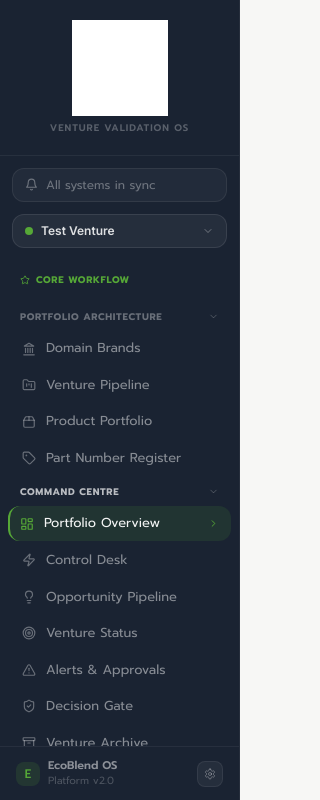
Test: Sidebar — ReactivationPanel X close button (#701) › panel can be reopened after X close (gear button still works)
The image size is (320, 800).
Click the button with test id "gear-button": click(210, 774) [197, 761, 223, 787]
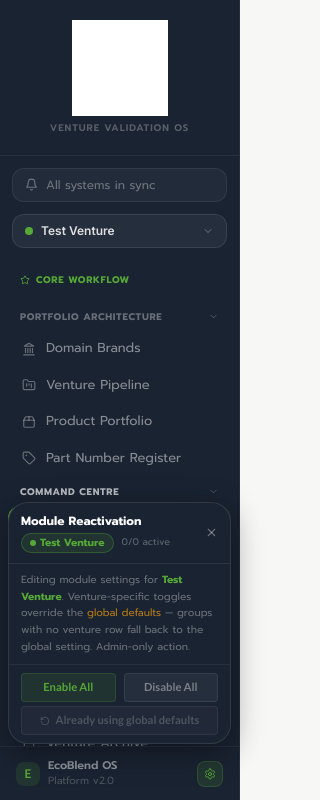
Click the 5th button: click(212, 533) [205, 526, 218, 539]
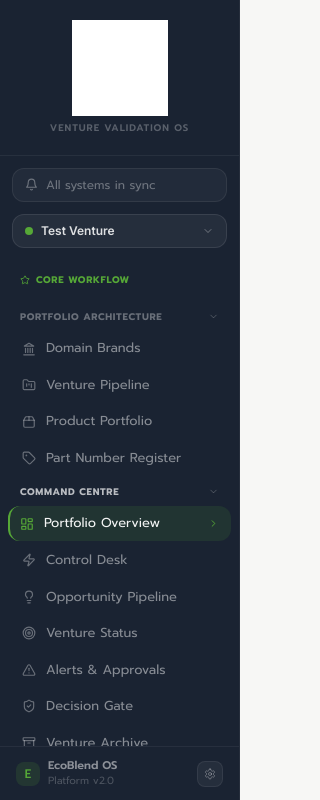
Now the element with test id "reactivation-panel" is gone
// Gear click must reopen.
Click the button with test id "gear-button": click(210, 774) [197, 761, 223, 787]
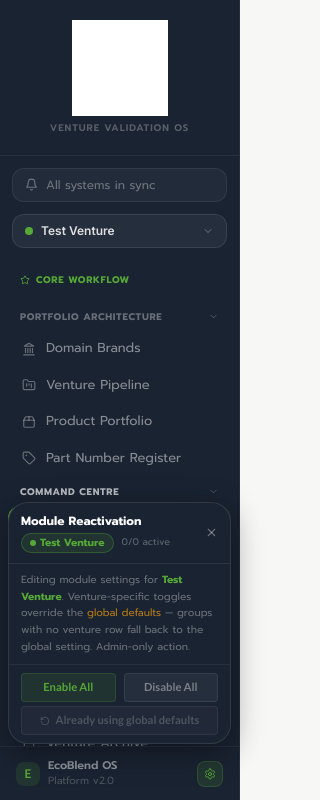
Now the element with test id "reactivation-panel" is shown, box [8, 502, 231, 744]
